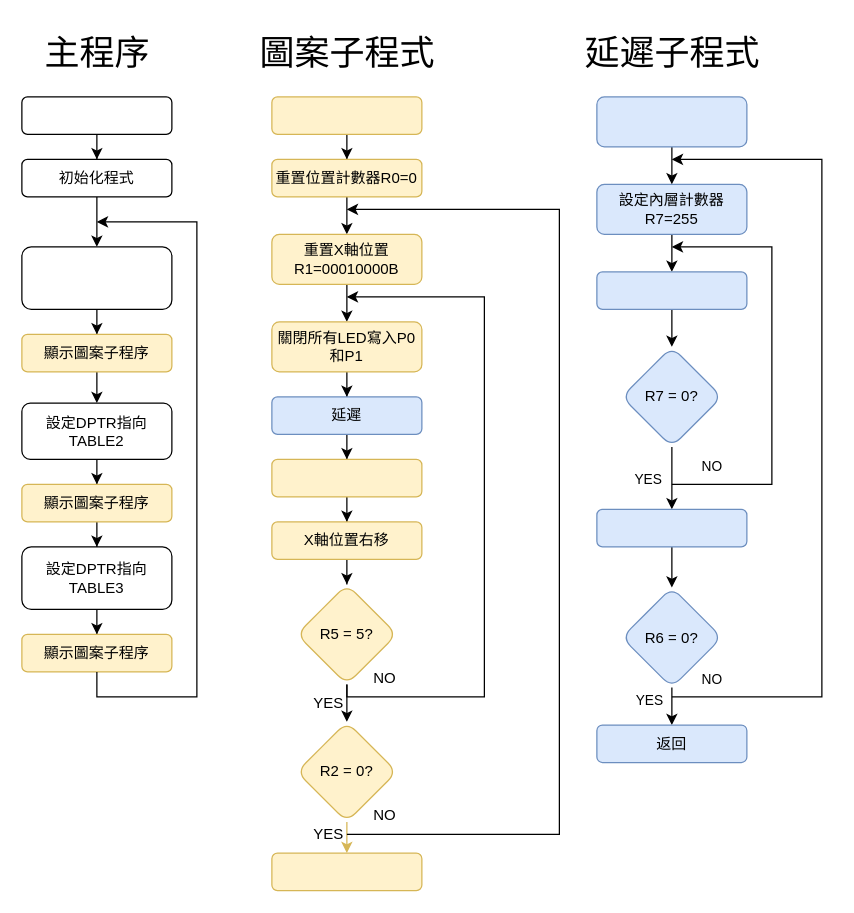
This 854x913 diagram has some shape labels left out. Each missing label, with the centre of its shape:
"位置計數器R0加1" belongs at [346,477].
"內層計數-1" belongs at [671,290].
"外層計數-1" belongs at [671,527].
"程式開始" belongs at [96,115].
"設定DPTR指向TABLE1" belongs at [96,277].
"設定外層計數器R6=10" belongs at [671,121].
"設計數器R2=125(輪)" belongs at [346,115].
"返回主程序" belongs at [346,871].
